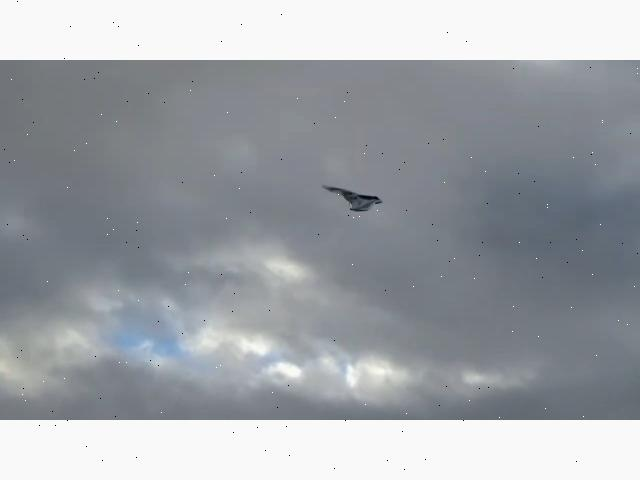Anti-Drone: (320, 184, 384, 212)
